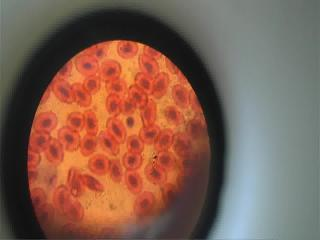cell: (54, 81, 77, 103), (72, 84, 92, 108), (68, 168, 86, 194), (58, 127, 80, 148), (134, 192, 156, 213), (46, 138, 66, 161), (35, 113, 60, 131), (140, 100, 158, 125), (152, 72, 169, 96), (77, 55, 97, 75), (135, 70, 154, 91), (119, 40, 141, 58), (108, 117, 126, 139), (128, 85, 146, 107), (32, 132, 54, 150), (147, 164, 165, 186), (98, 130, 115, 153), (138, 56, 157, 76), (155, 150, 174, 170), (54, 184, 68, 211), (84, 108, 100, 131), (172, 82, 188, 105), (102, 63, 126, 78), (124, 151, 146, 167), (90, 154, 110, 171), (112, 157, 125, 183), (108, 78, 126, 96), (128, 134, 146, 152), (165, 105, 181, 125), (105, 95, 120, 116), (158, 130, 172, 152), (126, 171, 143, 189), (85, 78, 104, 94), (80, 134, 96, 153), (66, 112, 83, 128), (142, 126, 158, 142)
